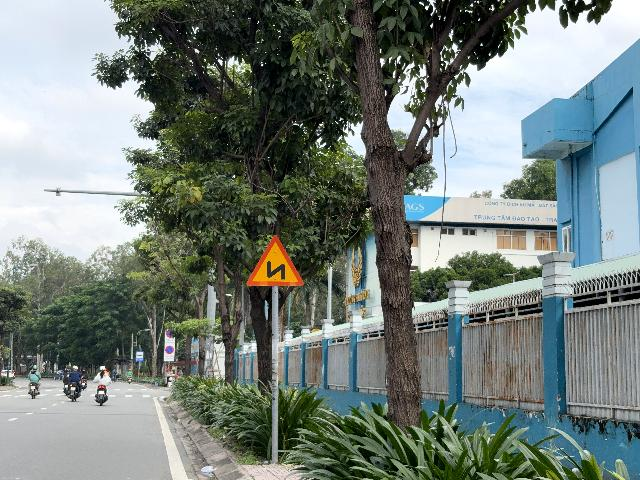nhieu-cho-ngoat-nguy-hiem-lien-tiep: (246, 235, 305, 286)
